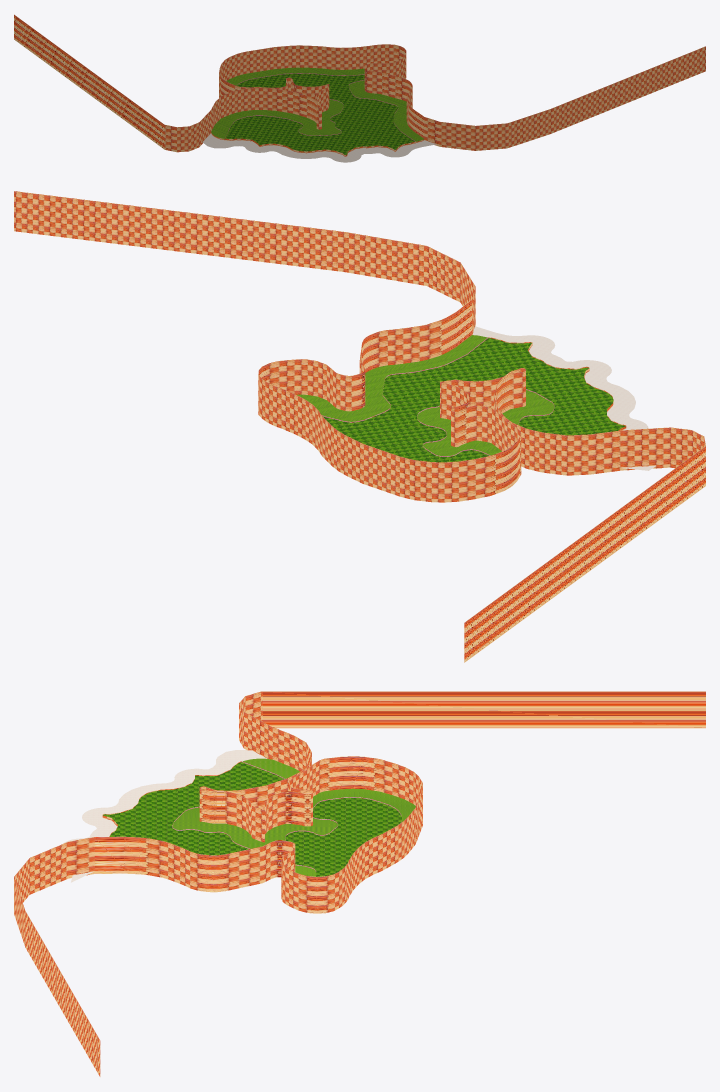
The picture shows the model from 3 angles, top to bottom: view 1: azimuth 30°, elevation 25°; view 2: azimuth 150°, elevation 25°; view 3: azimuth 270°, elevation 25°; orthographic projection. The views are drawn at different scales.
Visible parts, largest first — view 1: polygon308, polygon115, polygon0.006, polygon23.003, polygon46; view 2: polygon308, polygon115, polygon0.006, polygon23.003; view 3: polygon308, polygon115, polygon0.006, polygon23.003.
Boxes of the visible parts, box(x1,y1,x2,y2) form: polygon308: box(14, 14, 705, 156); polygon115: box(225, 73, 414, 154); polygon0.006: box(211, 67, 423, 141); polygon23.003: box(202, 133, 436, 162); polygon46: box(225, 73, 415, 141); polygon308: box(14, 191, 705, 662); polygon115: box(322, 338, 625, 462); polygon0.006: box(297, 335, 554, 456); polygon23.003: box(472, 326, 655, 470); polygon308: box(14, 691, 705, 1076); polygon115: box(103, 762, 401, 876); polygon0.006: box(172, 758, 415, 876); polygon23.003: box(63, 750, 267, 882).
Size of what is drawn, in the model's own units: 221787 by 10934 by 185530.
5 materials, 5 textured.
